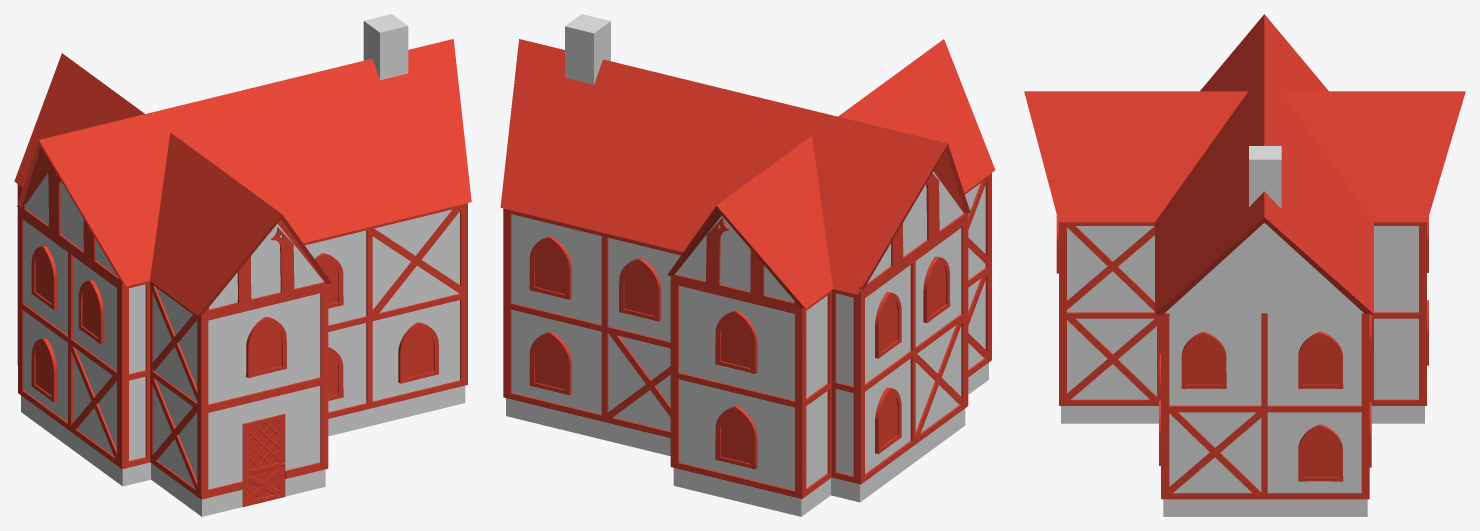
Rendered from House1.fbx.
3 renders of one model, left to right at view 1: azimuth 30°, elevation 25°; view 2: azimuth 150°, elevation 25°; view 3: azimuth 270°, elevation 25°, orthographic. The views are drawn at different scales.
Parts seen in each view (by area): view 1: Medieval House 2 (4), Medieval House 2 (5), Medieval House 2 (3), Medieval House 2 (6); view 2: Medieval House 2 (4), Medieval House 2 (5), Medieval House 2 (3), Medieval House 2 (6); view 3: Medieval House 2 (4), Medieval House 2 (5), Medieval House 2 (6), Medieval House 2 (3).
Boxes of the visible parts, <box> form: Medieval House 2 (4): <box>14,39,471,506</box>; Medieval House 2 (5): <box>24,209,459,489</box>; Medieval House 2 (3): <box>21,14,465,516</box>; Medieval House 2 (6): <box>26,173,116,275</box>; Medieval House 2 (4): <box>500,39,995,498</box>; Medieval House 2 (5): <box>511,183,985,490</box>; Medieval House 2 (3): <box>506,14,988,516</box>; Medieval House 2 (6): <box>867,171,963,282</box>; Medieval House 2 (4): <box>1024,14,1465,499</box>; Medieval House 2 (5): <box>1067,226,1418,492</box>; Medieval House 2 (6): <box>1165,223,1363,312</box>; Medieval House 2 (3): <box>1061,146,1424,516</box>.
Bounding box in the file's own units: 23500 × 18900 × 21600.
